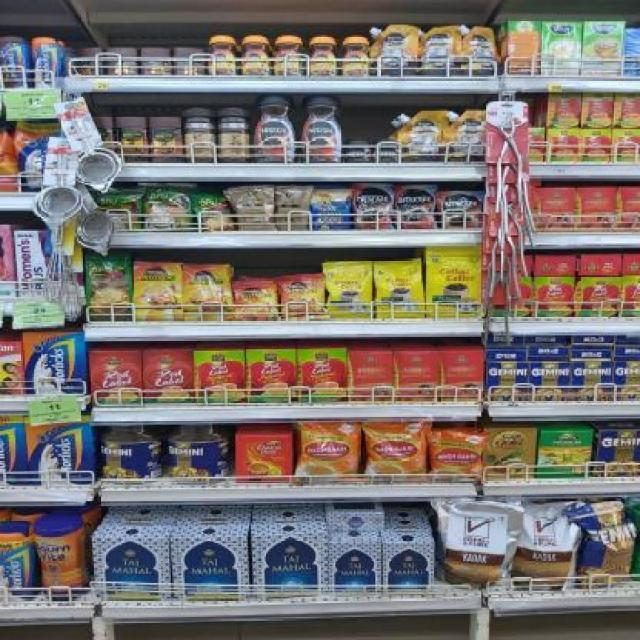Coffee: (299, 94, 342, 165), (252, 95, 296, 164), (133, 261, 182, 322), (182, 264, 230, 322), (280, 278, 326, 319), (354, 184, 394, 230), (233, 281, 278, 320), (397, 186, 434, 229), (439, 192, 482, 228), (241, 37, 271, 76), (209, 36, 238, 75), (308, 36, 336, 75), (342, 36, 370, 75), (275, 37, 301, 76), (347, 140, 372, 162), (376, 140, 399, 162)
